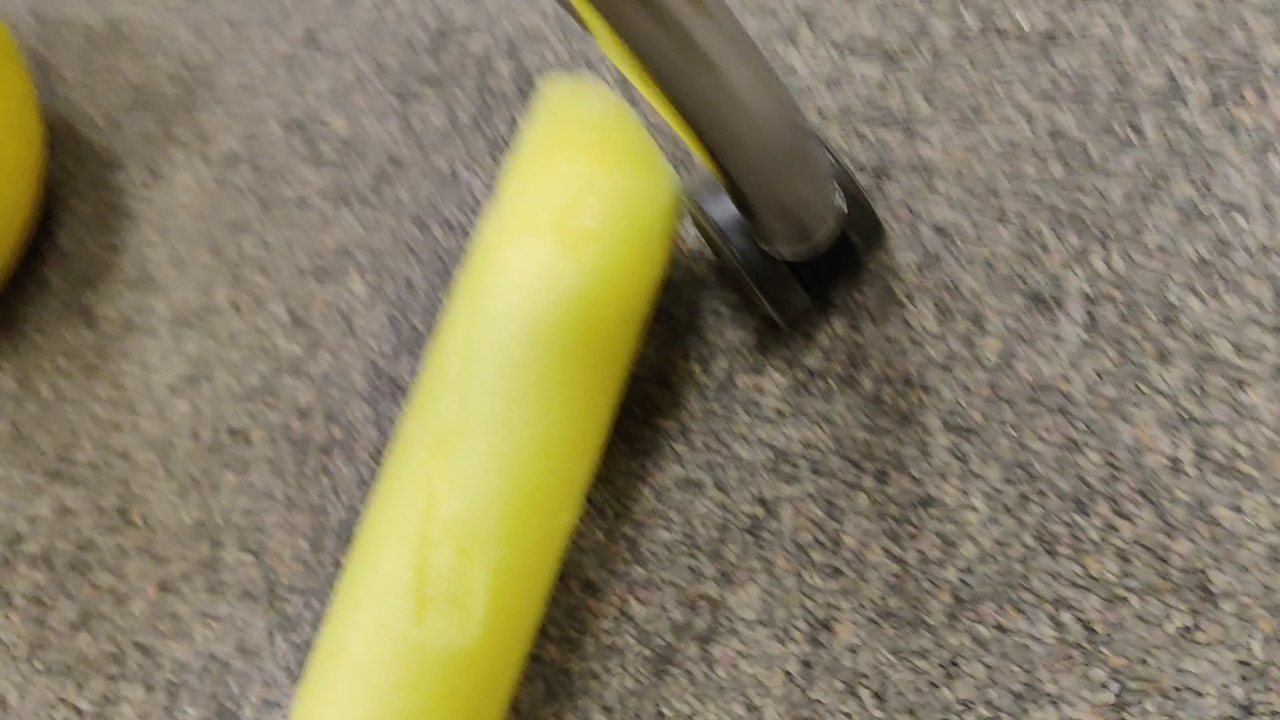Ball: (1, 16, 44, 288)
